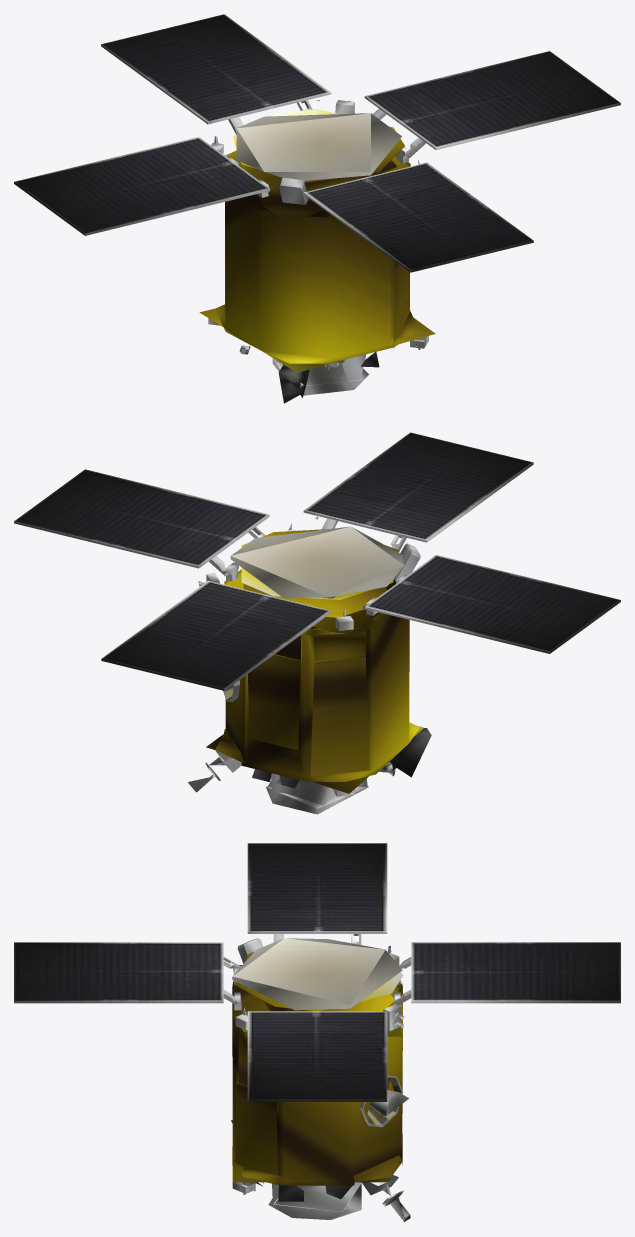
The model's file is near.glb.
The picture shows the model from 3 angles, top to bottom: view 1: azimuth 30°, elevation 25°; view 2: azimuth 150°, elevation 25°; view 3: azimuth 270°, elevation 25°; orthographic projection.
Visible parts, largest first — view 1: tex_01, foil_gold, foil_silver; view 2: tex_01, foil_gold, foil_silver; view 3: tex_01, foil_gold, foil_silver.
Boxes of the visible parts, bbox=[...] form: tex_01: bbox=[14, 14, 620, 395]; foil_gold: bbox=[199, 109, 435, 372]; foil_silver: bbox=[278, 347, 394, 403]; tex_01: bbox=[14, 432, 620, 814]; foil_gold: bbox=[206, 529, 423, 793]; foil_silver: bbox=[252, 728, 431, 788]; tex_01: bbox=[14, 843, 620, 1221]; foil_gold: bbox=[232, 952, 403, 1185]; foil_silver: bbox=[231, 1120, 354, 1201].
Size of the model in its own units: 5.29 by 2.61 by 5.29.
Materials: 3 (3 with a texture image).
